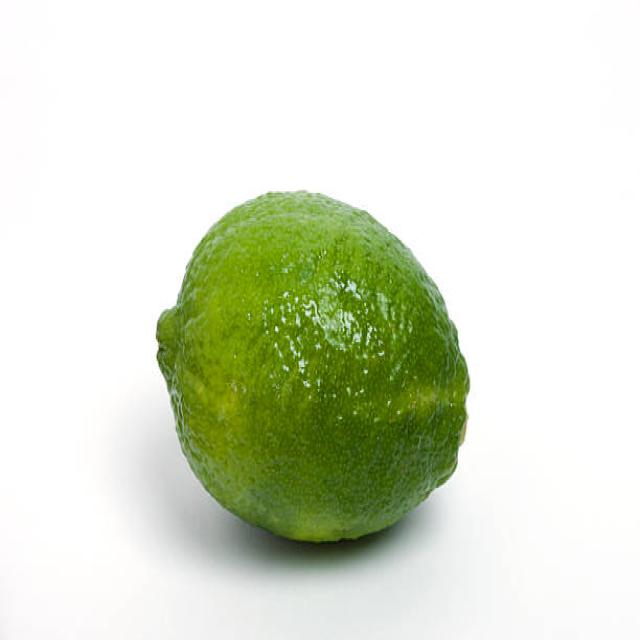Unripe: (156, 188, 472, 546)
